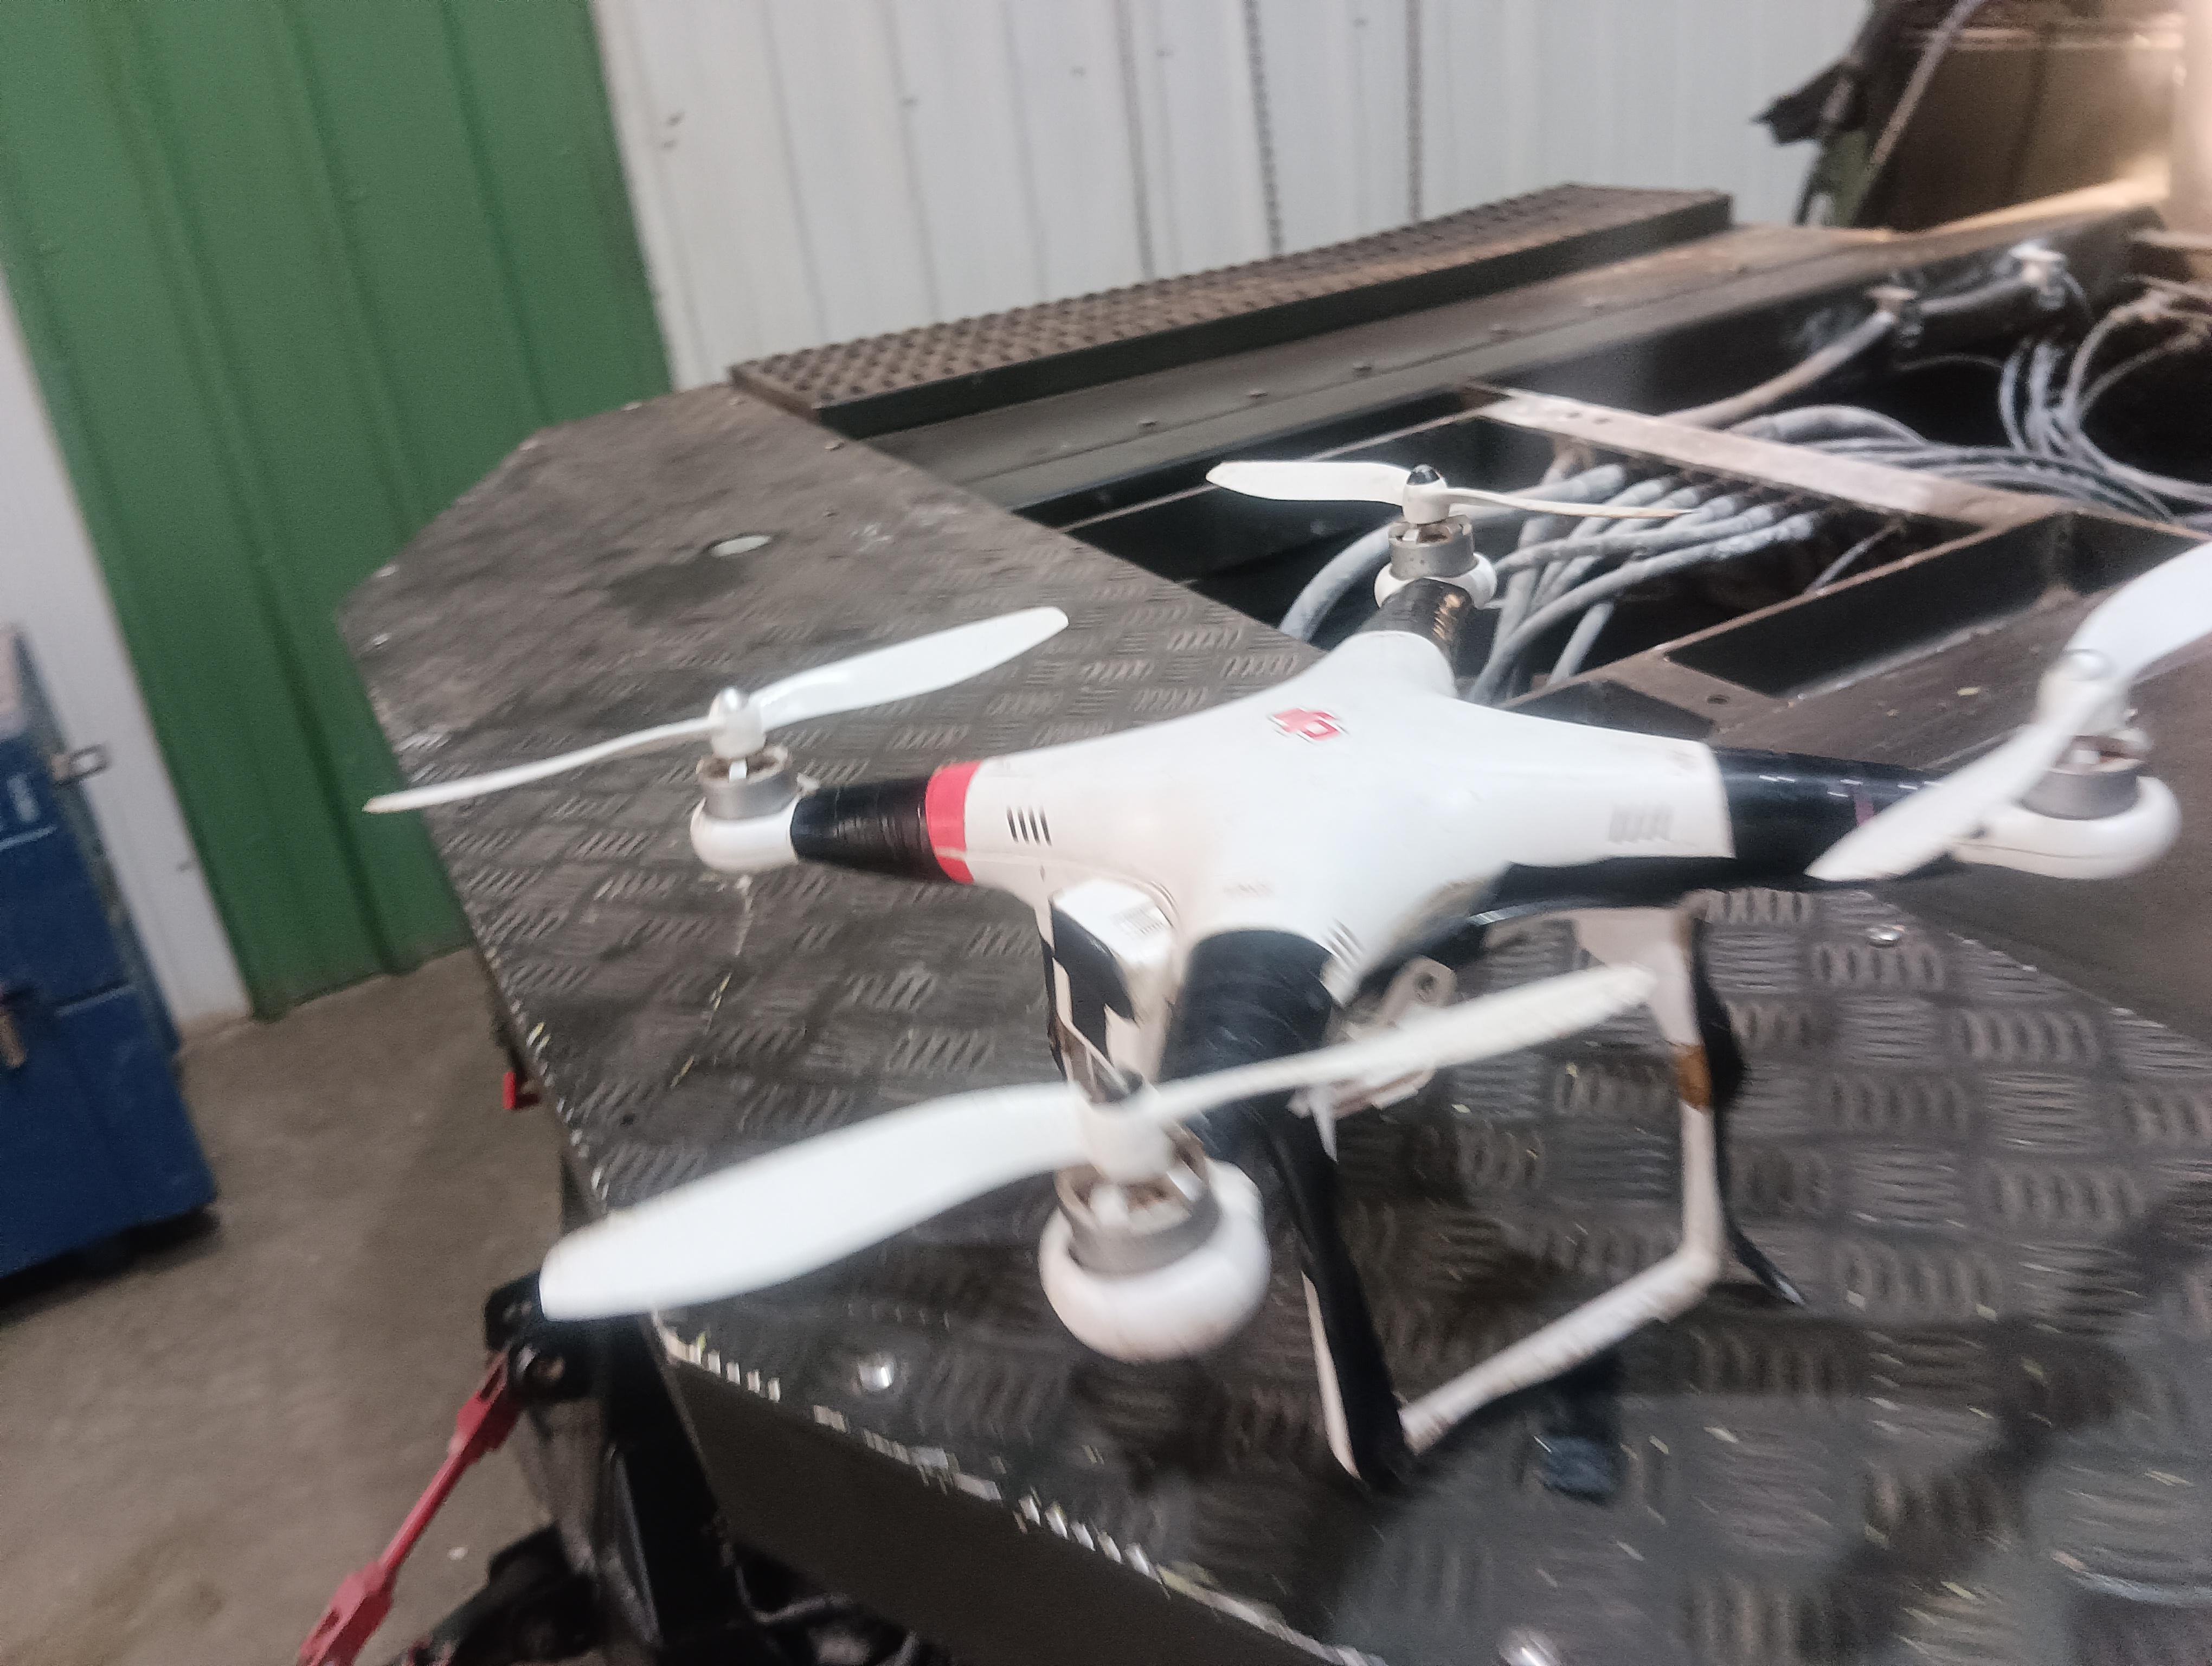drone: (289, 381, 2212, 1458)
